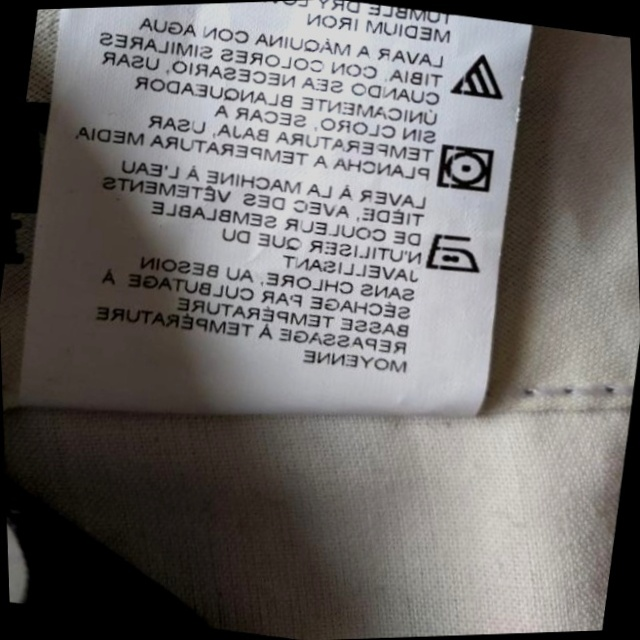iron_medium: (420, 225, 483, 278)
non_chlorine_bleach: (443, 44, 511, 111)
tumble_dry_low: (431, 137, 503, 199)
